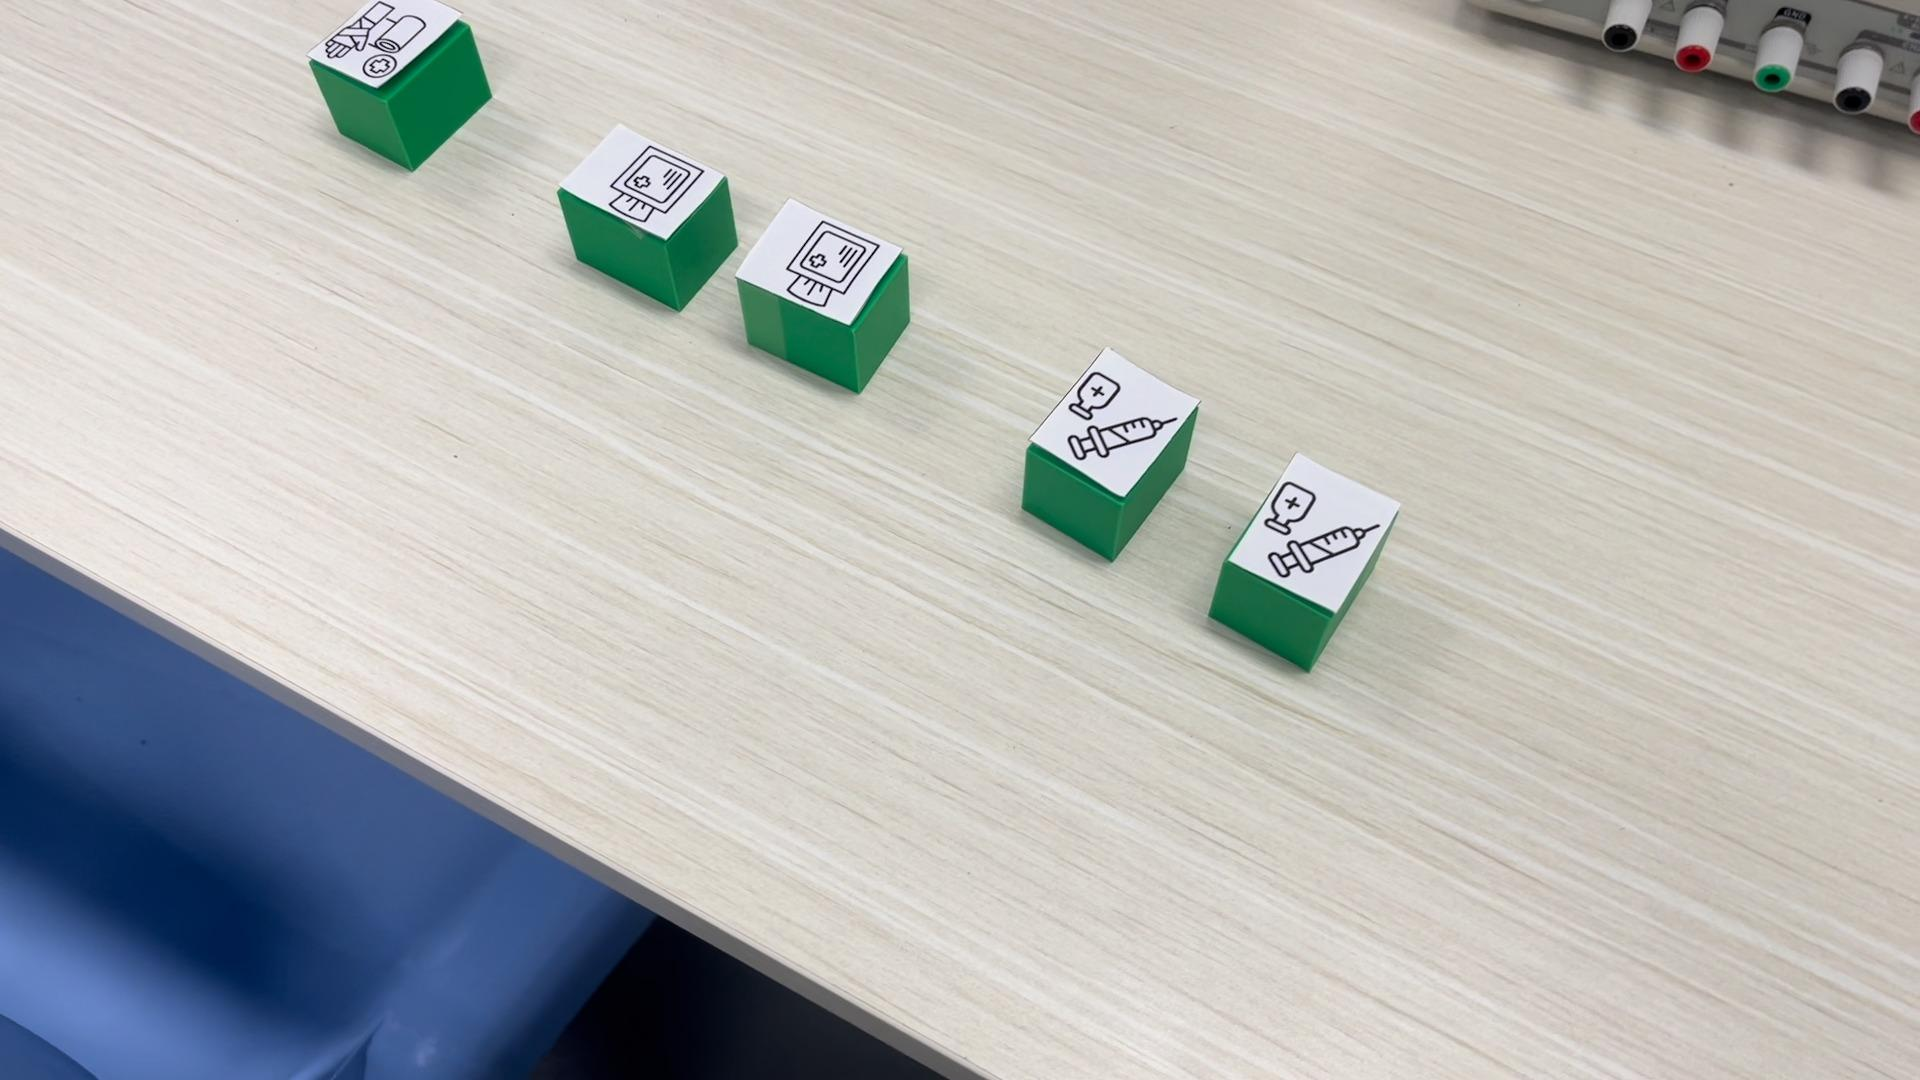Bandages: (305, 0, 492, 169)
Gauze: (555, 120, 738, 311), (737, 196, 913, 393)
antiseptic cream: (1208, 452, 1403, 671), (1019, 345, 1203, 560)
